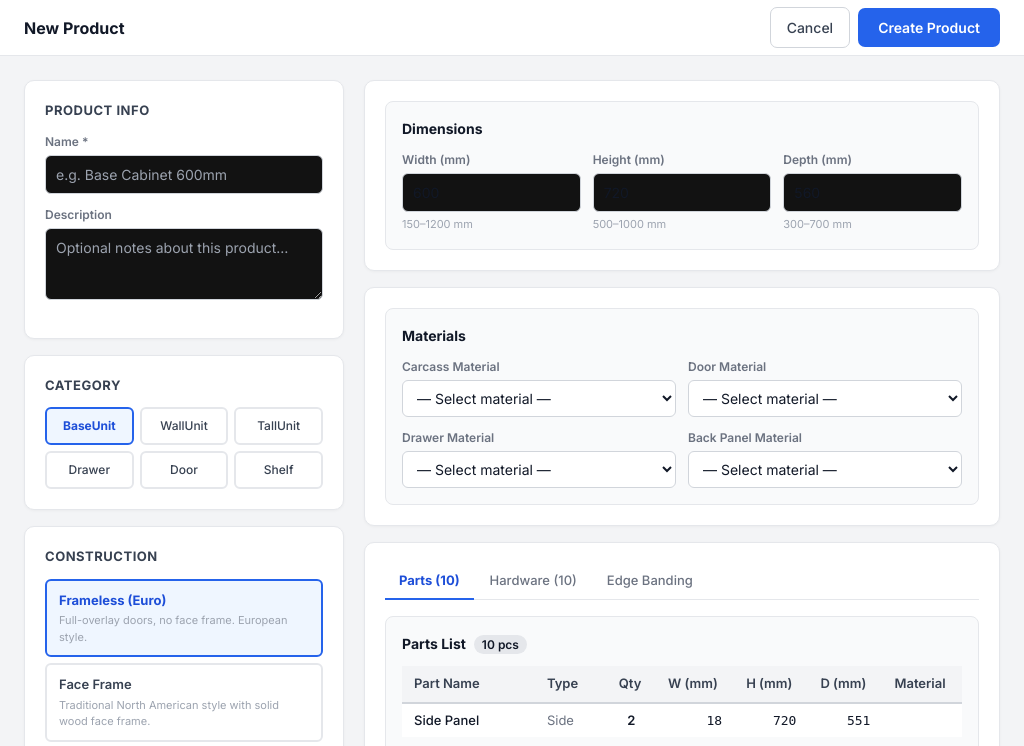
Test: ProductEditor — form interactions › switching to edging tab shows edging config
Step 1. Click the tab with test id "tab-edging" → [650, 581], box [593,562,707,600]
(page scrolled)
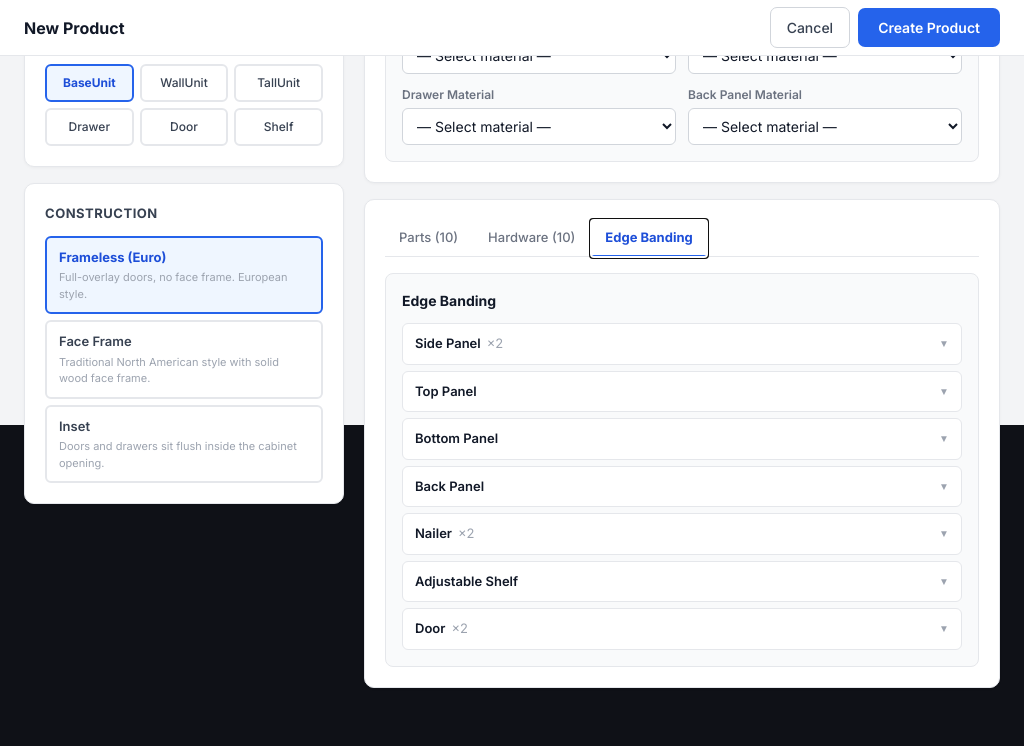
Expected: the element with test id "edging-config" is shown, [385,273,979,666]
